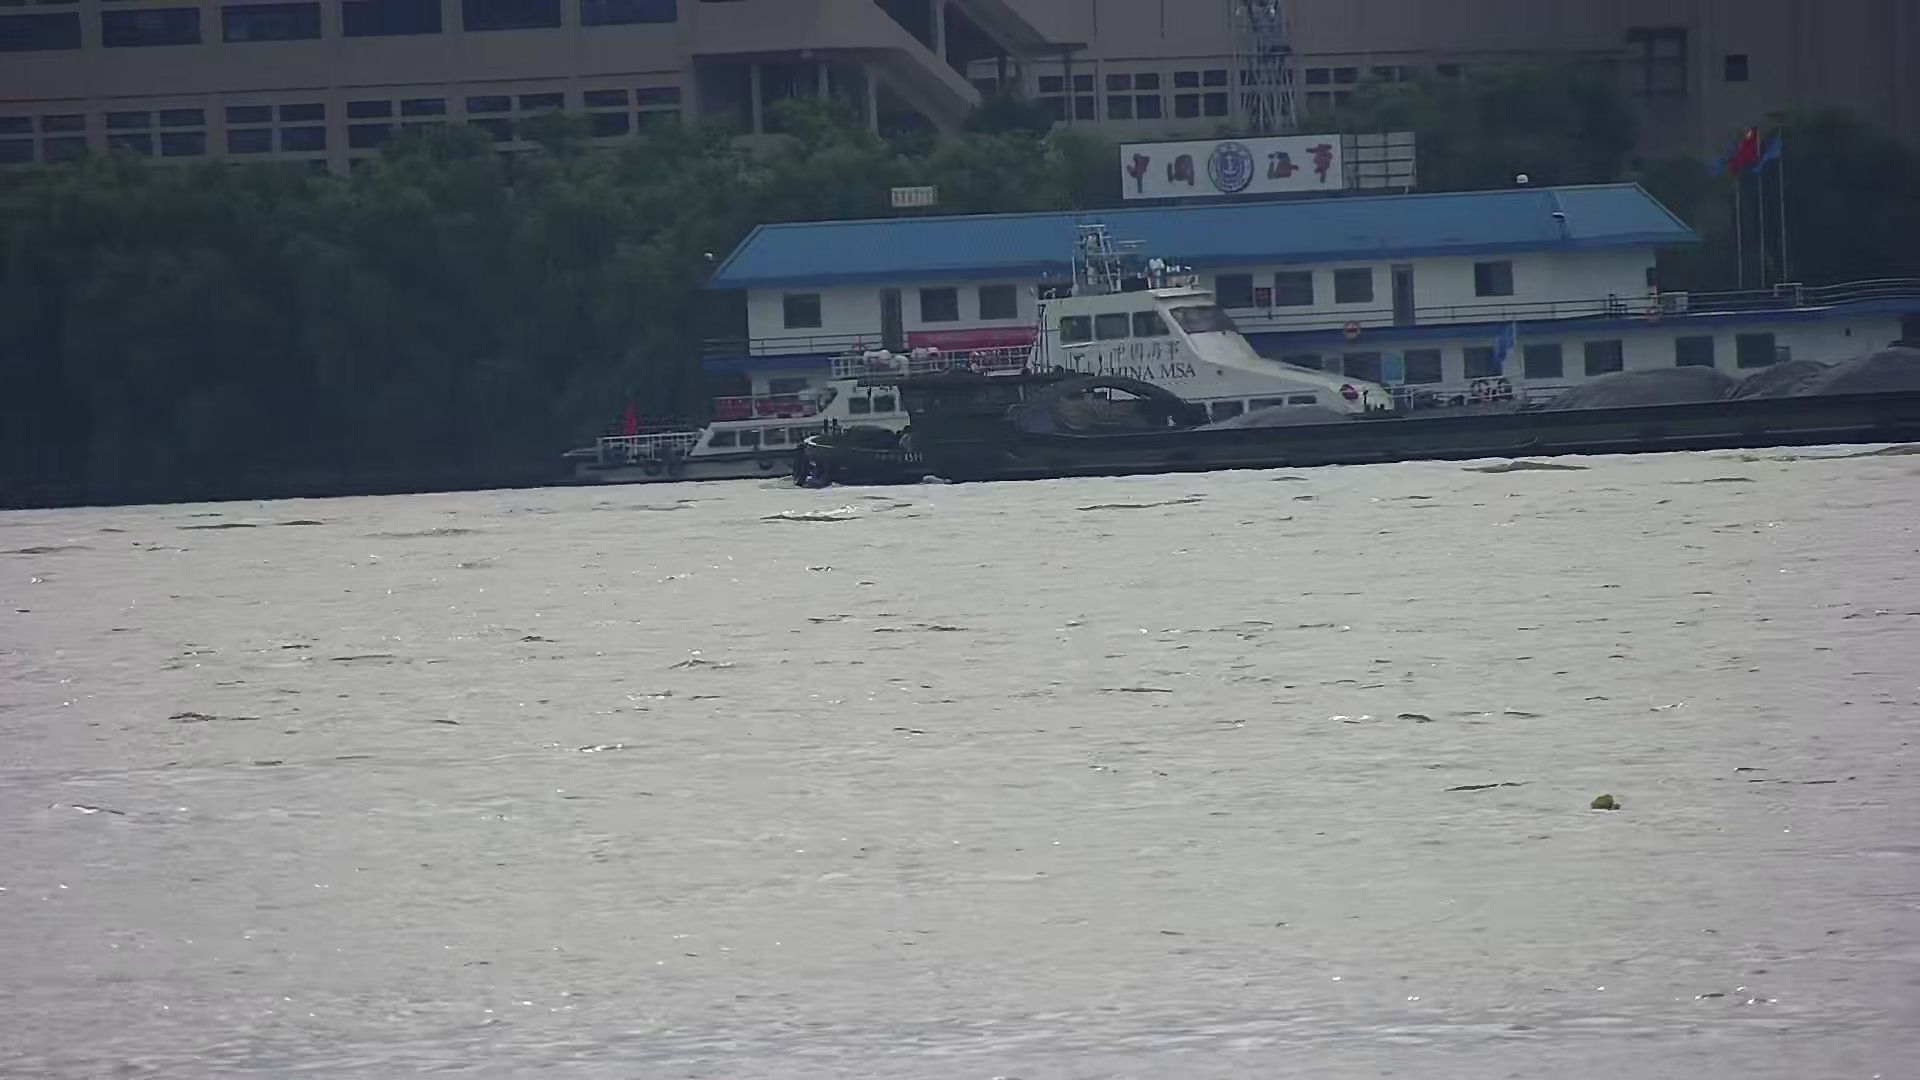ship: (541, 229, 1393, 484), (782, 344, 1920, 481)
